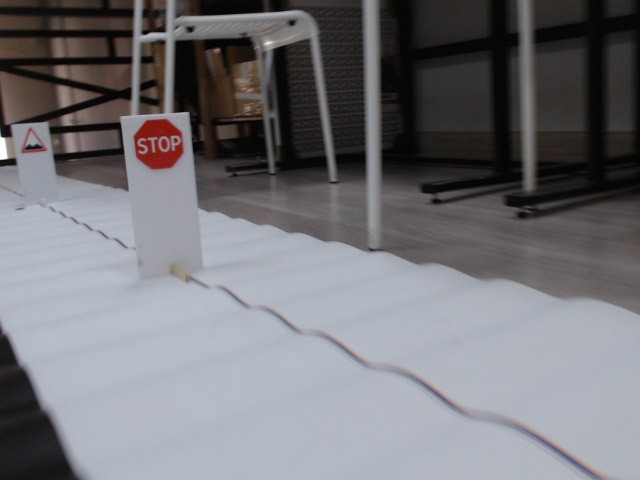Stop: (132, 118, 185, 170)
